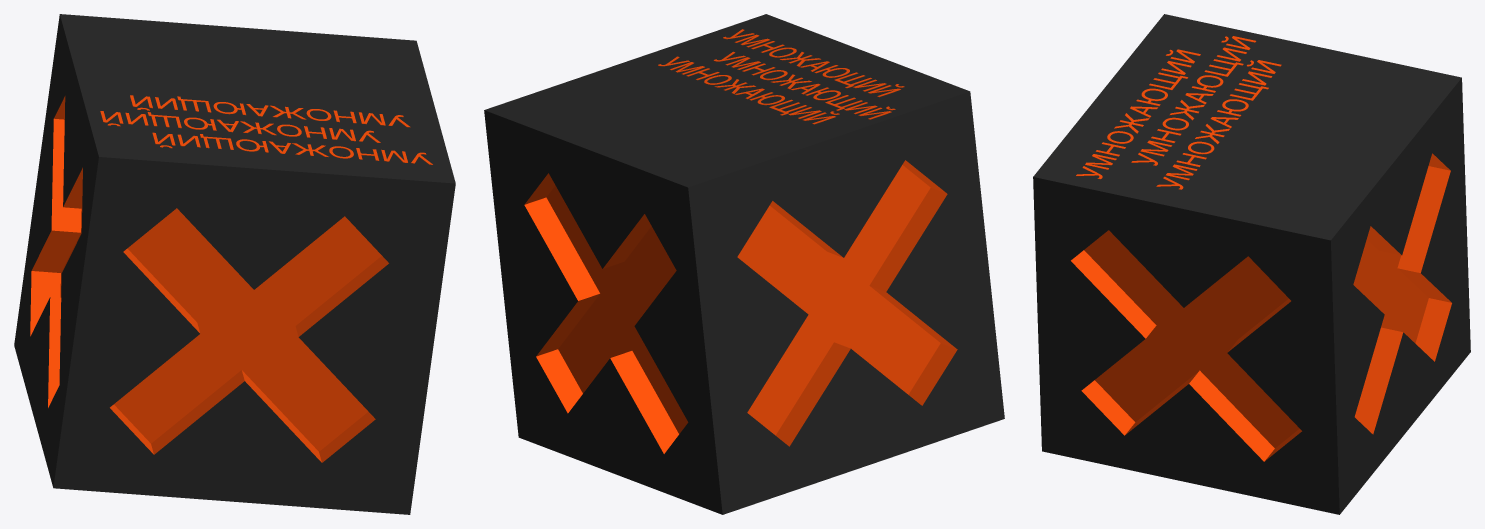
Rendered from серый .glb.
The picture shows the model from 3 angles, left to right: view 1: azimuth 30°, elevation 25°; view 2: azimuth 150°, elevation 25°; view 3: azimuth 270°, elevation 25°; orthographic projection. The views are drawn at different scales.
Parts seen in each view (by area): view 1: Cube.004; view 2: Cube.004; view 3: Cube.004.
Part boxes in pixels (x1,y1,x2,y2): Cube.004: (14,14,455,514); Cube.004: (484,14,1004,514); Cube.004: (1033,14,1470,514).
Bounding box in the file's own units: 2.43 × 1.94 × 2.27.
